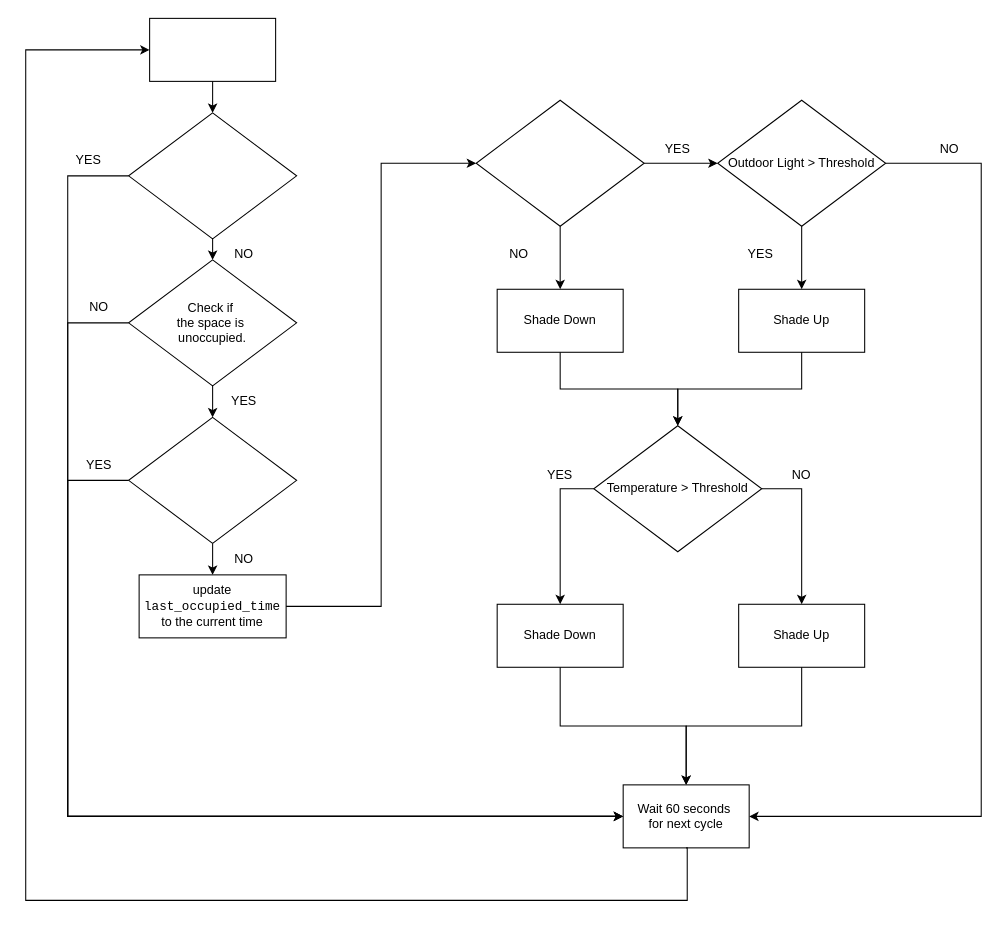
The diagram is 1008 pixels wide and 927 high, and some of its shapes have lost their labels. Each missing label, with the centre of its shape:
"Determine if there is a manual override event." belongs at [212,175].
"If the space is unoccupied and the time difference exceeds" belongs at [212,479].
"Indoor Light < Target" belongs at [559,162].
"Shade Automation" belongs at [212,49].
